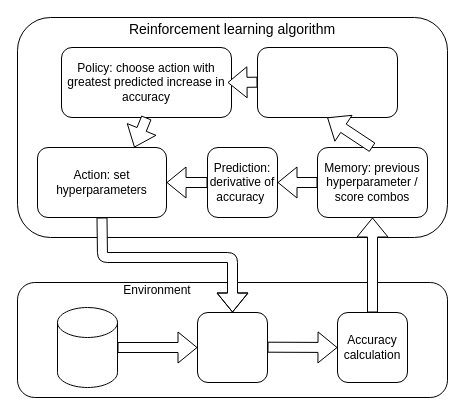
Image size: 465x415. Some labels were removed from this diagram. Each missing label, with the centre of its shape:
"Classifier" belongs at (x=232, y=347).
"Genomic data" belongs at (x=87, y=347).
"Reward: value function (Q), positive for increased accuracy" belongs at (x=327, y=82).
